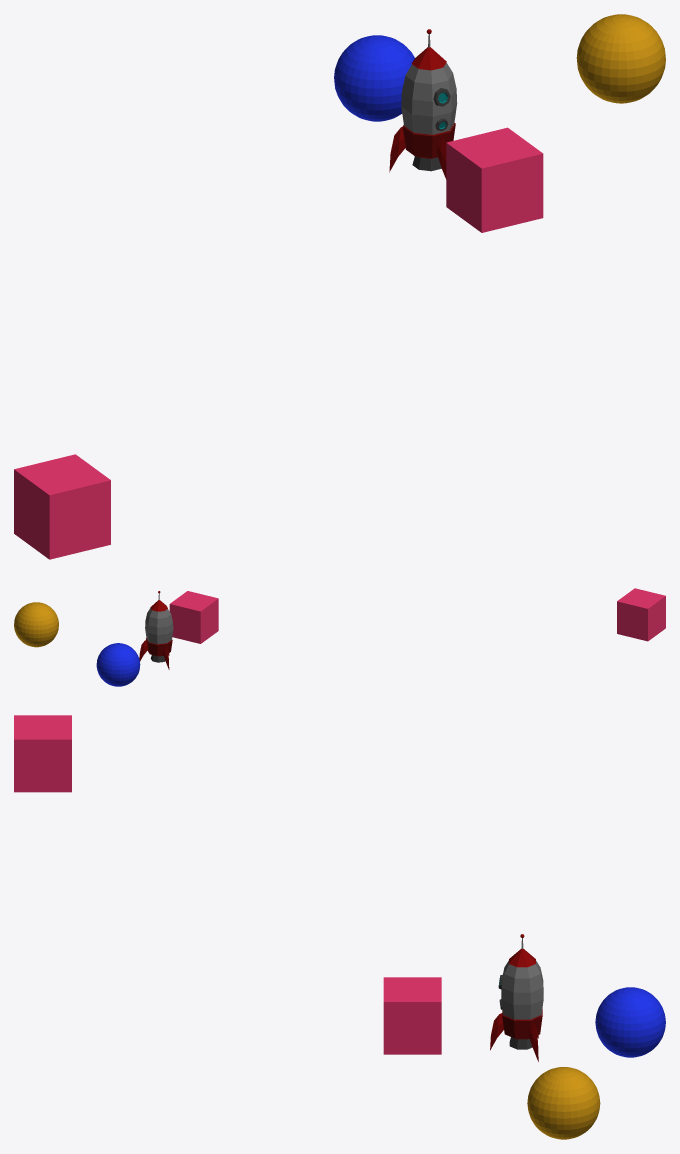
Rendered from Orbs.glb.
3 renders of one model, top to bottom at view 1: azimuth 30°, elevation 25°; view 2: azimuth 150°, elevation 25°; view 3: azimuth 270°, elevation 25°, orthographic. The views are drawn at different scales.
Parts seen in each view (by area): view 1: Cube, Cube.001, Sphere.001, RocketShip_mesh, Sphere; view 2: Cube.001, Cube, Sphere.001, RocketShip_mesh, Sphere; view 3: Cube, Cube.001, Sphere.001, RocketShip_mesh, Sphere.
Boxes of the visible parts, x1,y1,x2,y2 form: Cube: (446, 127, 543, 232); Cube.001: (14, 454, 110, 559); Sphere.001: (576, 14, 665, 103); RocketShip_mesh: (389, 29, 457, 179); Sphere: (334, 35, 414, 121); Cube.001: (617, 588, 665, 641); Cube: (169, 591, 218, 643); Sphere.001: (14, 602, 58, 647); RocketShip_mesh: (139, 591, 173, 669); Sphere: (96, 643, 140, 686); Cube: (383, 977, 441, 1054); Cube.001: (14, 715, 71, 792); Sphere.001: (527, 1067, 600, 1139); RocketShip_mesh: (490, 934, 543, 1061); Sphere: (595, 987, 665, 1057).
Bounding box in the file's own units: 4.53 × 0.654 × 3.31.
Materials: 4 (1 with a texture image).
